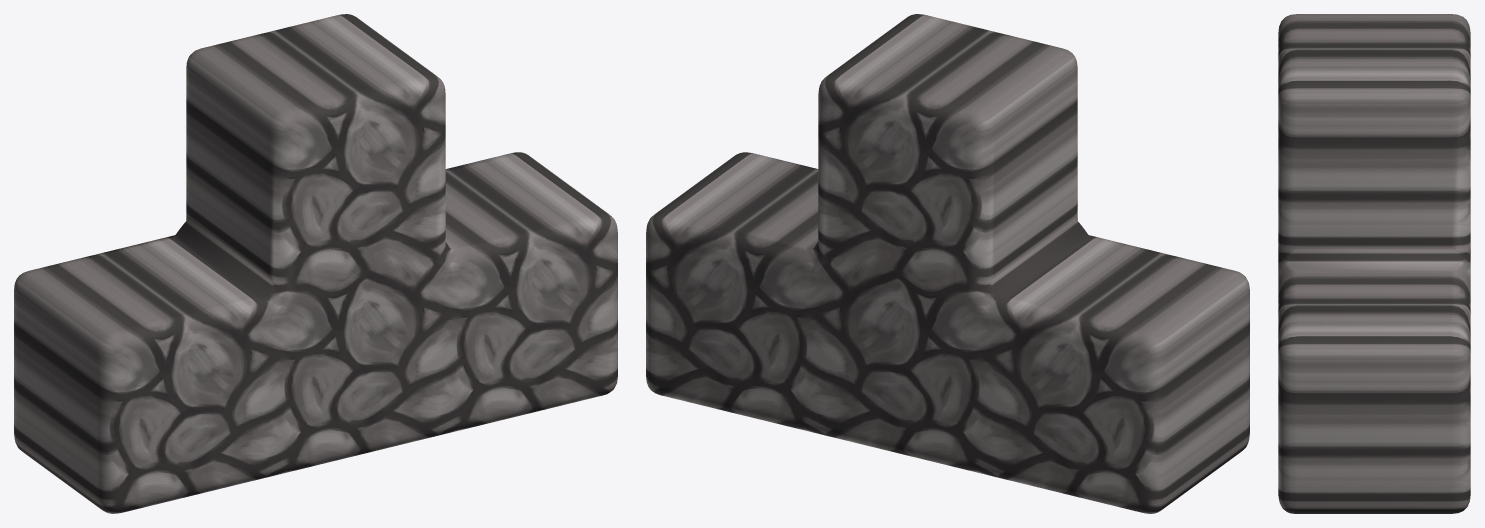
Rendered from T_block.FBX.
The picture shows the model from 3 angles, left to right: view 1: azimuth 30°, elevation 25°; view 2: azimuth 150°, elevation 25°; view 3: azimuth 270°, elevation 25°; orthographic projection. The views are drawn at different scales.
Visible parts, largest first — view 1: Box001; view 2: Box001; view 3: Box001.
Part boxes in pixels (x1,y1,x2,y2): Box001: [14, 14, 617, 513]; Box001: [646, 14, 1249, 513]; Box001: [1278, 14, 1470, 513].
Bounding box in the file's own units: 3 × 2 × 1.
